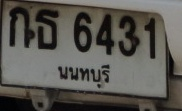txt01: (7, 5, 31, 50)
txt19: (34, 8, 60, 51)
